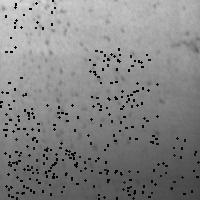pitted_surface: (16, 1, 134, 158), (96, 81, 156, 141), (89, 48, 148, 105), (53, 105, 111, 162), (12, 104, 71, 160), (4, 138, 59, 196), (8, 147, 68, 200), (50, 149, 107, 200), (151, 135, 200, 193), (113, 165, 171, 200), (0, 0, 36, 51), (0, 76, 31, 135), (20, 0, 72, 27)
